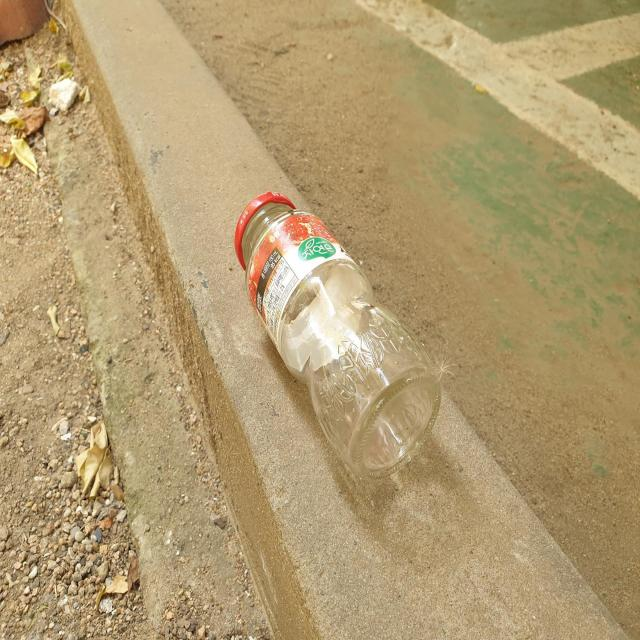glass: (235, 191, 441, 478)
